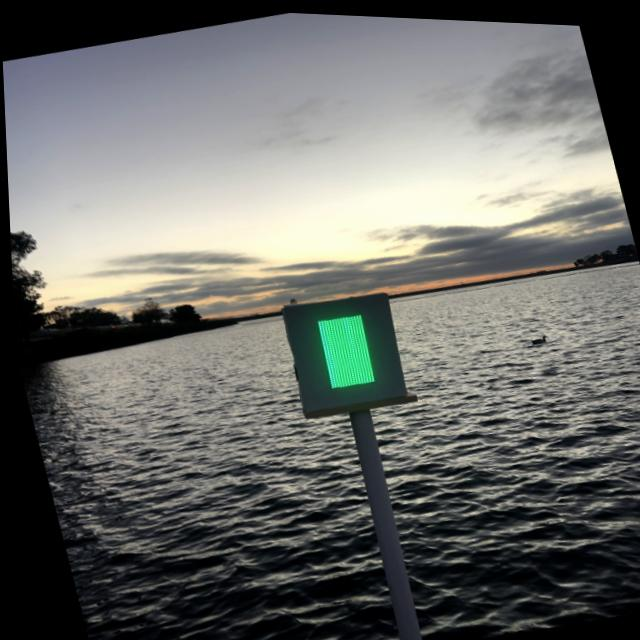led: (291, 283, 404, 413)
